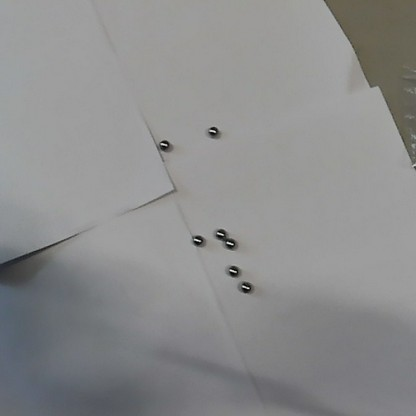ironball: (155, 137, 169, 150), (240, 281, 252, 294), (191, 233, 203, 245), (213, 226, 226, 237), (208, 125, 218, 137), (230, 263, 238, 275), (225, 237, 234, 247)
